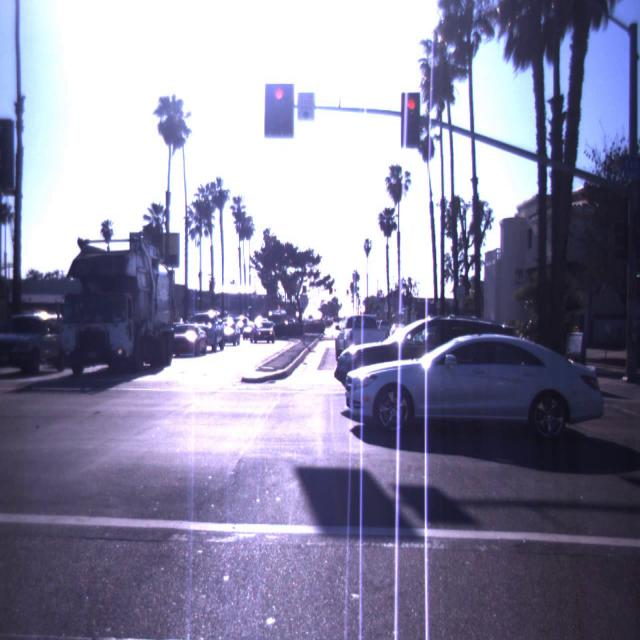go: (375, 300, 381, 313)
go traffic light: (375, 300, 381, 313)
stop: (266, 82, 292, 136), (401, 96, 422, 138)
stop traffic light: (266, 82, 292, 136), (401, 96, 422, 138)
